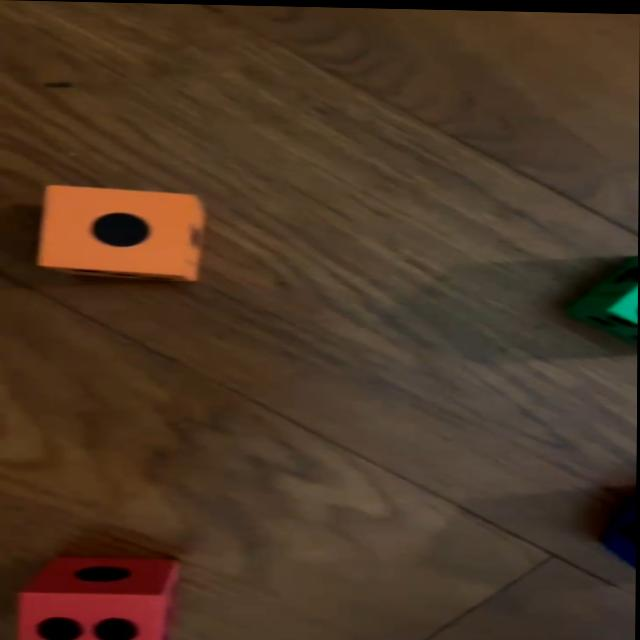cube: (16, 554, 177, 640), (569, 257, 639, 338), (604, 507, 637, 561)
